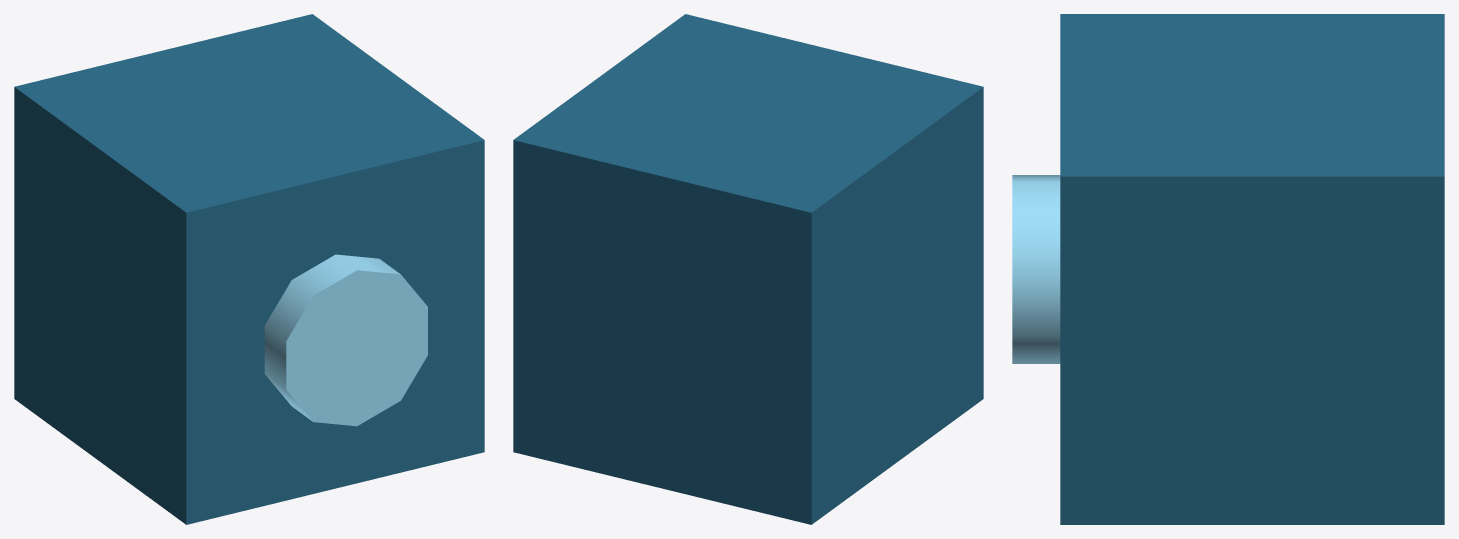
The picture shows the model from 3 angles, left to right: view 1: azimuth 30°, elevation 25°; view 2: azimuth 150°, elevation 25°; view 3: azimuth 270°, elevation 25°; orthographic projection. The views are drawn at different scales.
Visible parts, largest first — view 1: body, lens; view 2: body; view 3: body, lens.
Part boxes in pixels (bbox=[...]): body: bbox=[14, 14, 484, 524]; lens: bbox=[264, 254, 427, 426]; body: bbox=[513, 14, 983, 524]; body: bbox=[1060, 14, 1444, 524]; lens: bbox=[1012, 175, 1060, 363].
Bounding box in the file's own units: 0.1 × 0.1 × 0.1125.
